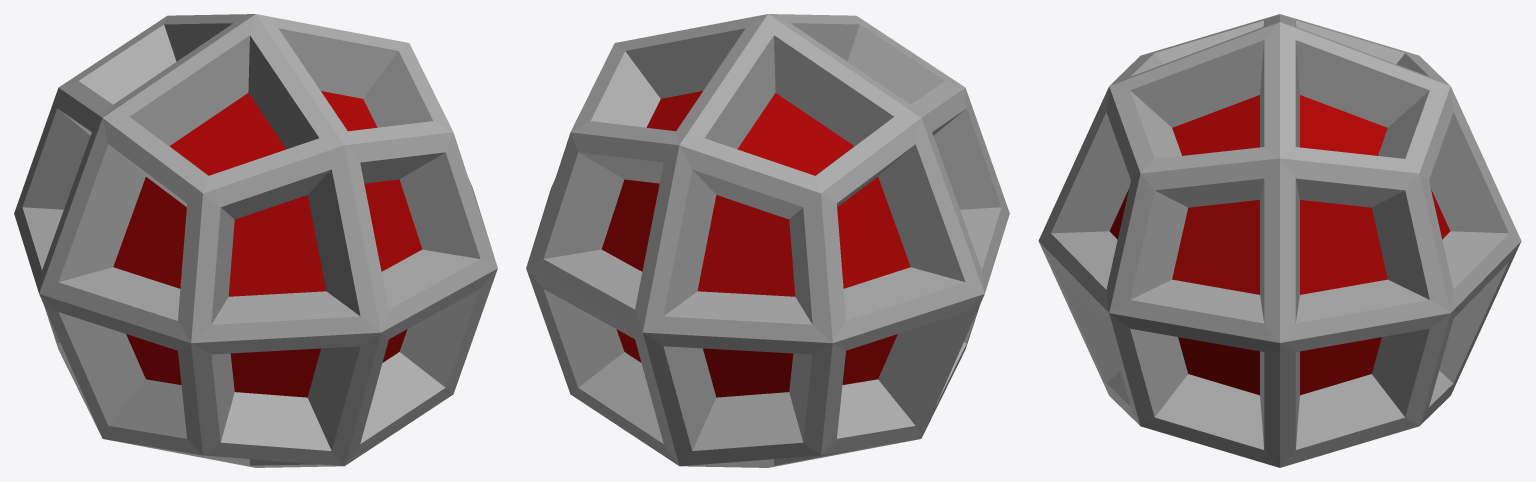
Rendered from enemy.fbx.
The picture shows the model from 3 angles, left to right: view 1: azimuth 30°, elevation 25°; view 2: azimuth 150°, elevation 25°; view 3: azimuth 270°, elevation 25°; orthographic projection. The views are drawn at different scales.
Visible parts, largest first — view 1: pPlatonic1; view 2: pPlatonic1; view 3: pPlatonic1.
Part boxes in pixels (x1,y1,x2,y2): pPlatonic1: (14,14,497,467); pPlatonic1: (526,14,1009,467); pPlatonic1: (1038,14,1521,467).
Bounding box in the file's own units: 2 × 2 × 2.
